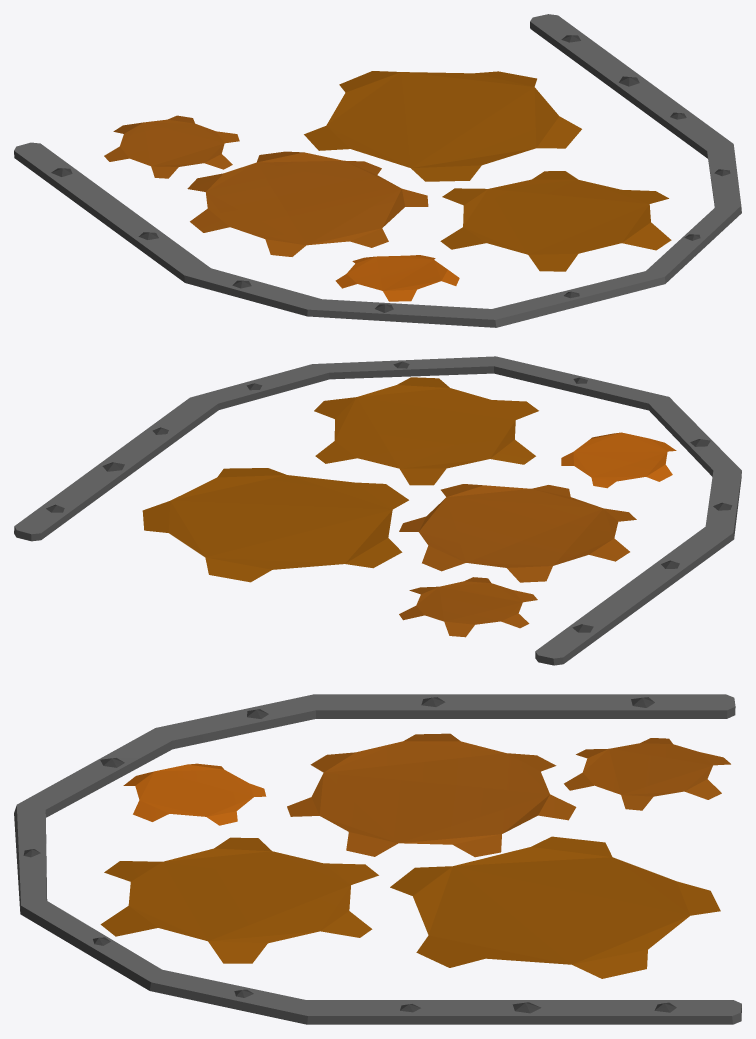
The model's file is Road End.glb.
3 views of the same model, one above another, from view 1: azimuth 30°, elevation 25°; view 2: azimuth 150°, elevation 25°; view 3: azimuth 270°, elevation 25° (orthographic). The views are drawn at different scales.
Parts seen in each view (by area): view 1: RoadEnd; view 2: RoadEnd; view 3: RoadEnd.
Part boxes in pixels (<box>): RoadEnd: <box>14,14,741,327</box>; RoadEnd: <box>14,356,741,665</box>; RoadEnd: <box>14,694,741,1024</box>.
Size of what is drawn, in the model's own units: 2 by 0.0408 by 1.91.
Materials: 1 (1 with a texture image).
